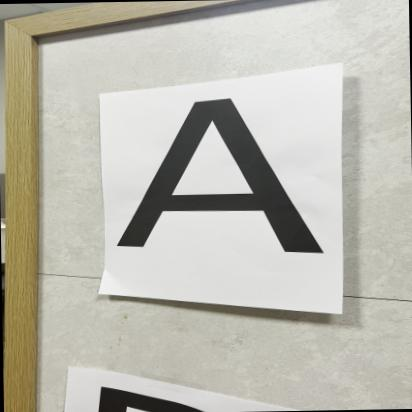seat: (102, 96, 334, 288)
